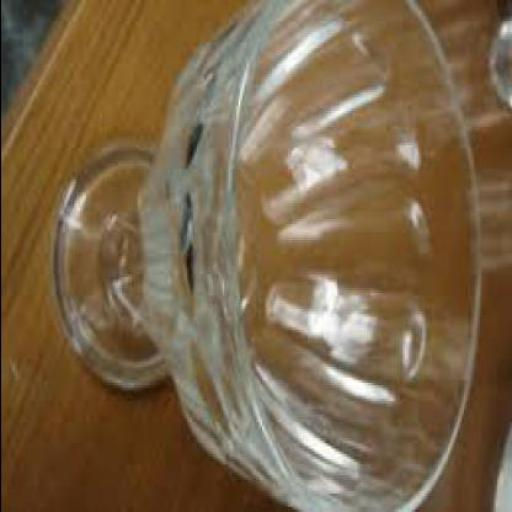glass: (54, 0, 480, 510), (437, 8, 511, 140), (463, 164, 511, 280)
